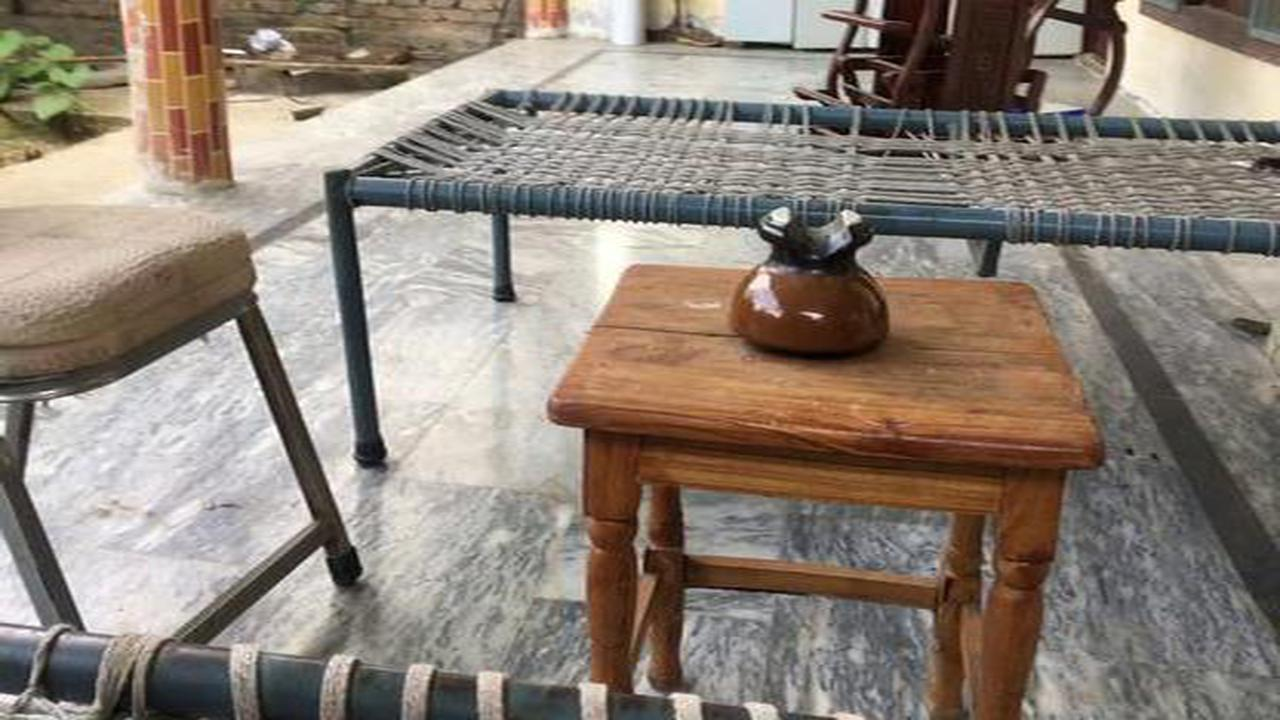insulator_pin: (711, 181, 917, 371)
